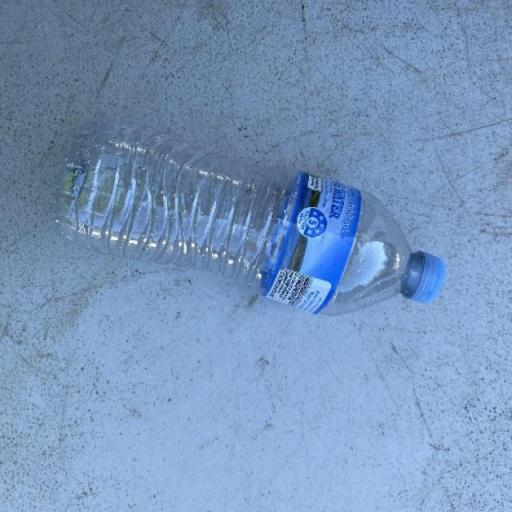plastic: (54, 115, 446, 317)
